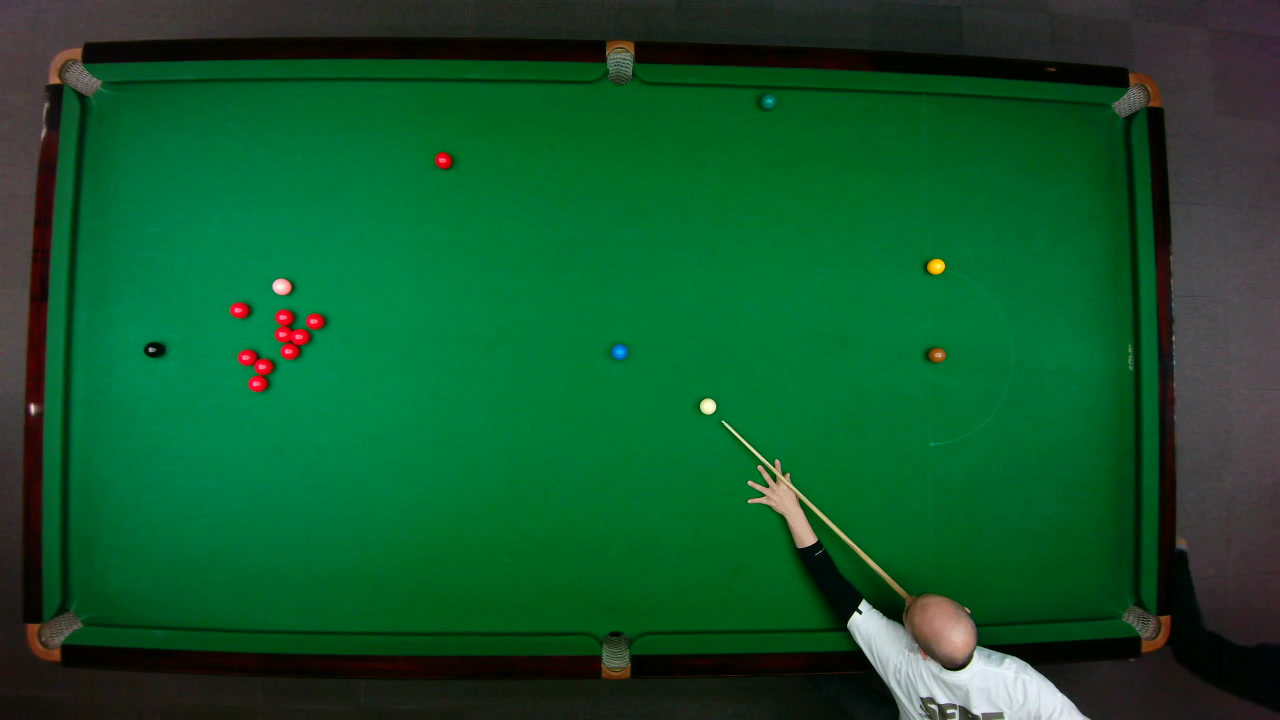bag: (24, 609, 83, 662), (45, 46, 102, 97), (1119, 603, 1172, 652), (1108, 71, 1161, 118), (600, 629, 629, 680), (605, 38, 633, 86)
black: (142, 340, 164, 357)
blue: (610, 342, 628, 360)
brown: (926, 346, 946, 362)
cue: (719, 418, 913, 601)
green: (758, 92, 776, 110)
pink: (270, 276, 292, 295)
red: (235, 347, 258, 366), (252, 356, 274, 375), (288, 326, 310, 345), (273, 307, 294, 326), (228, 300, 250, 318), (304, 311, 324, 330), (433, 150, 453, 169), (246, 375, 268, 392), (273, 325, 294, 342), (279, 342, 300, 359)
white: (698, 396, 716, 414)
yellow: (925, 257, 945, 275)
zone: (927, 266, 1013, 445)
